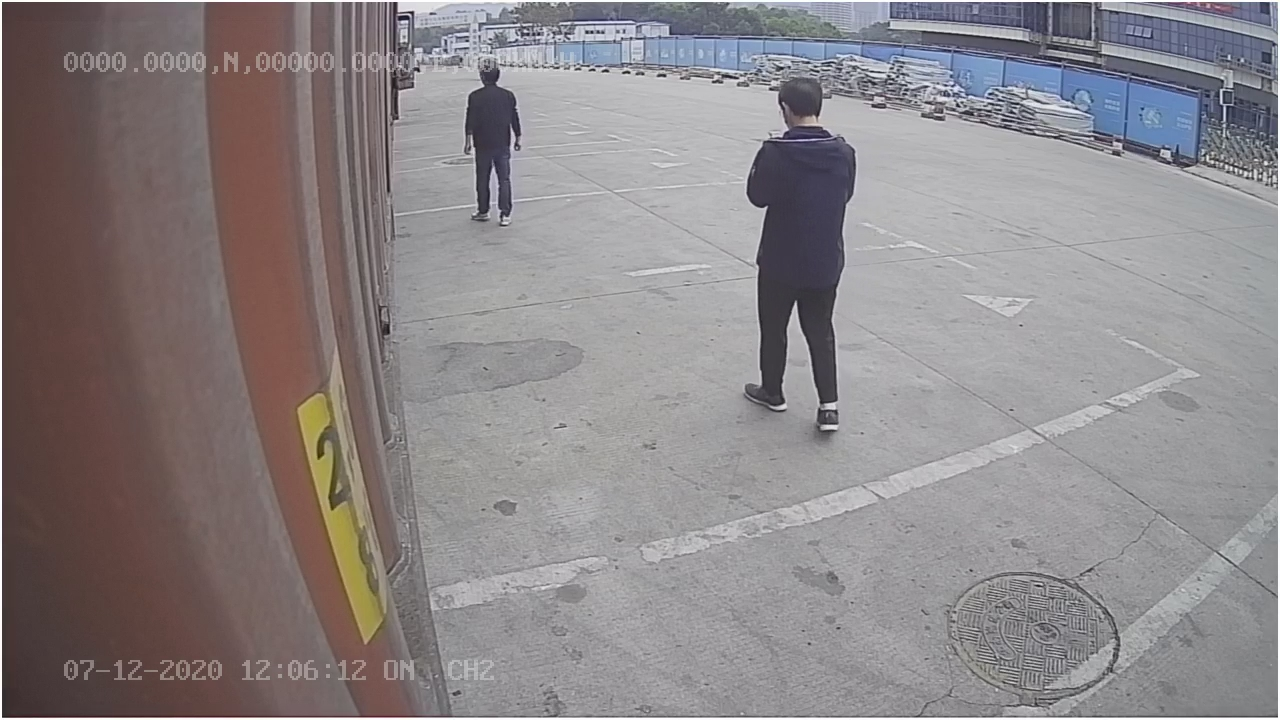person: (739, 70, 862, 431)
